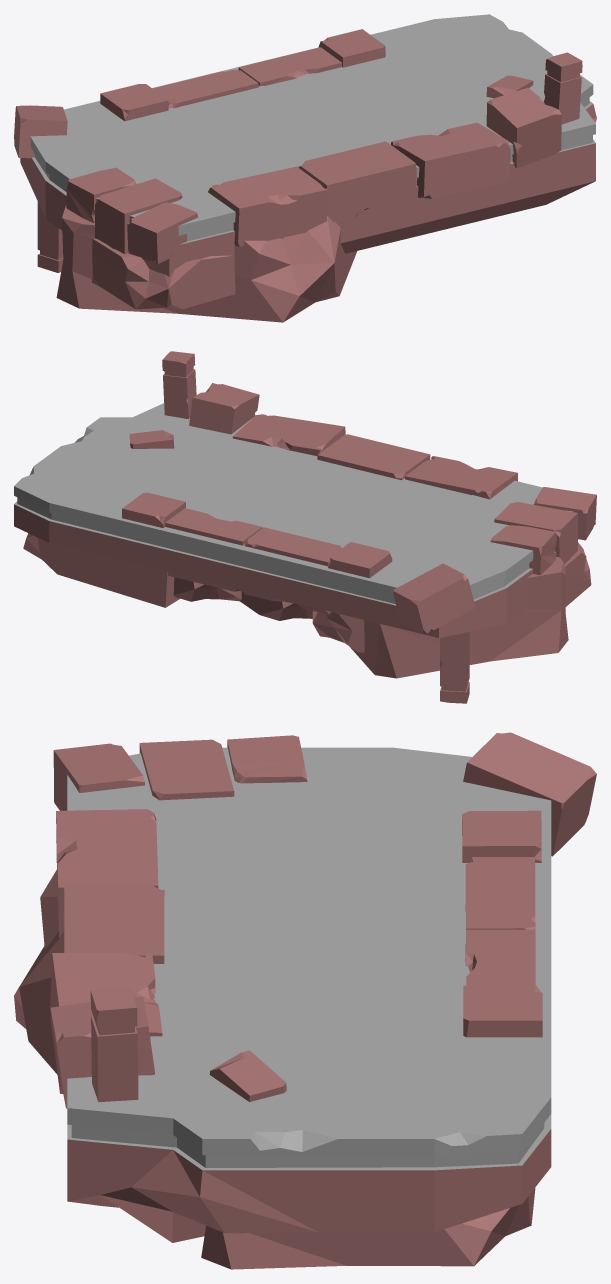
The model's file is SM_plateform_B.fbx.
The picture shows the model from 3 angles, top to bottom: view 1: azimuth 30°, elevation 25°; view 2: azimuth 150°, elevation 25°; view 3: azimuth 270°, elevation 25°; orthographic projection. The views are drawn at different scales.
Parts seen in each view (by area): view 1: Plateform_B; view 2: Plateform_B; view 3: Plateform_B.
Boxes of the visible parts, box(x1,y1,x2,y2) form: Plateform_B: box(14, 14, 596, 322); Plateform_B: box(14, 351, 596, 703); Plateform_B: box(14, 732, 596, 1269).
Size of what is drawn, in the model's own units: 514 by 179 by 308.
